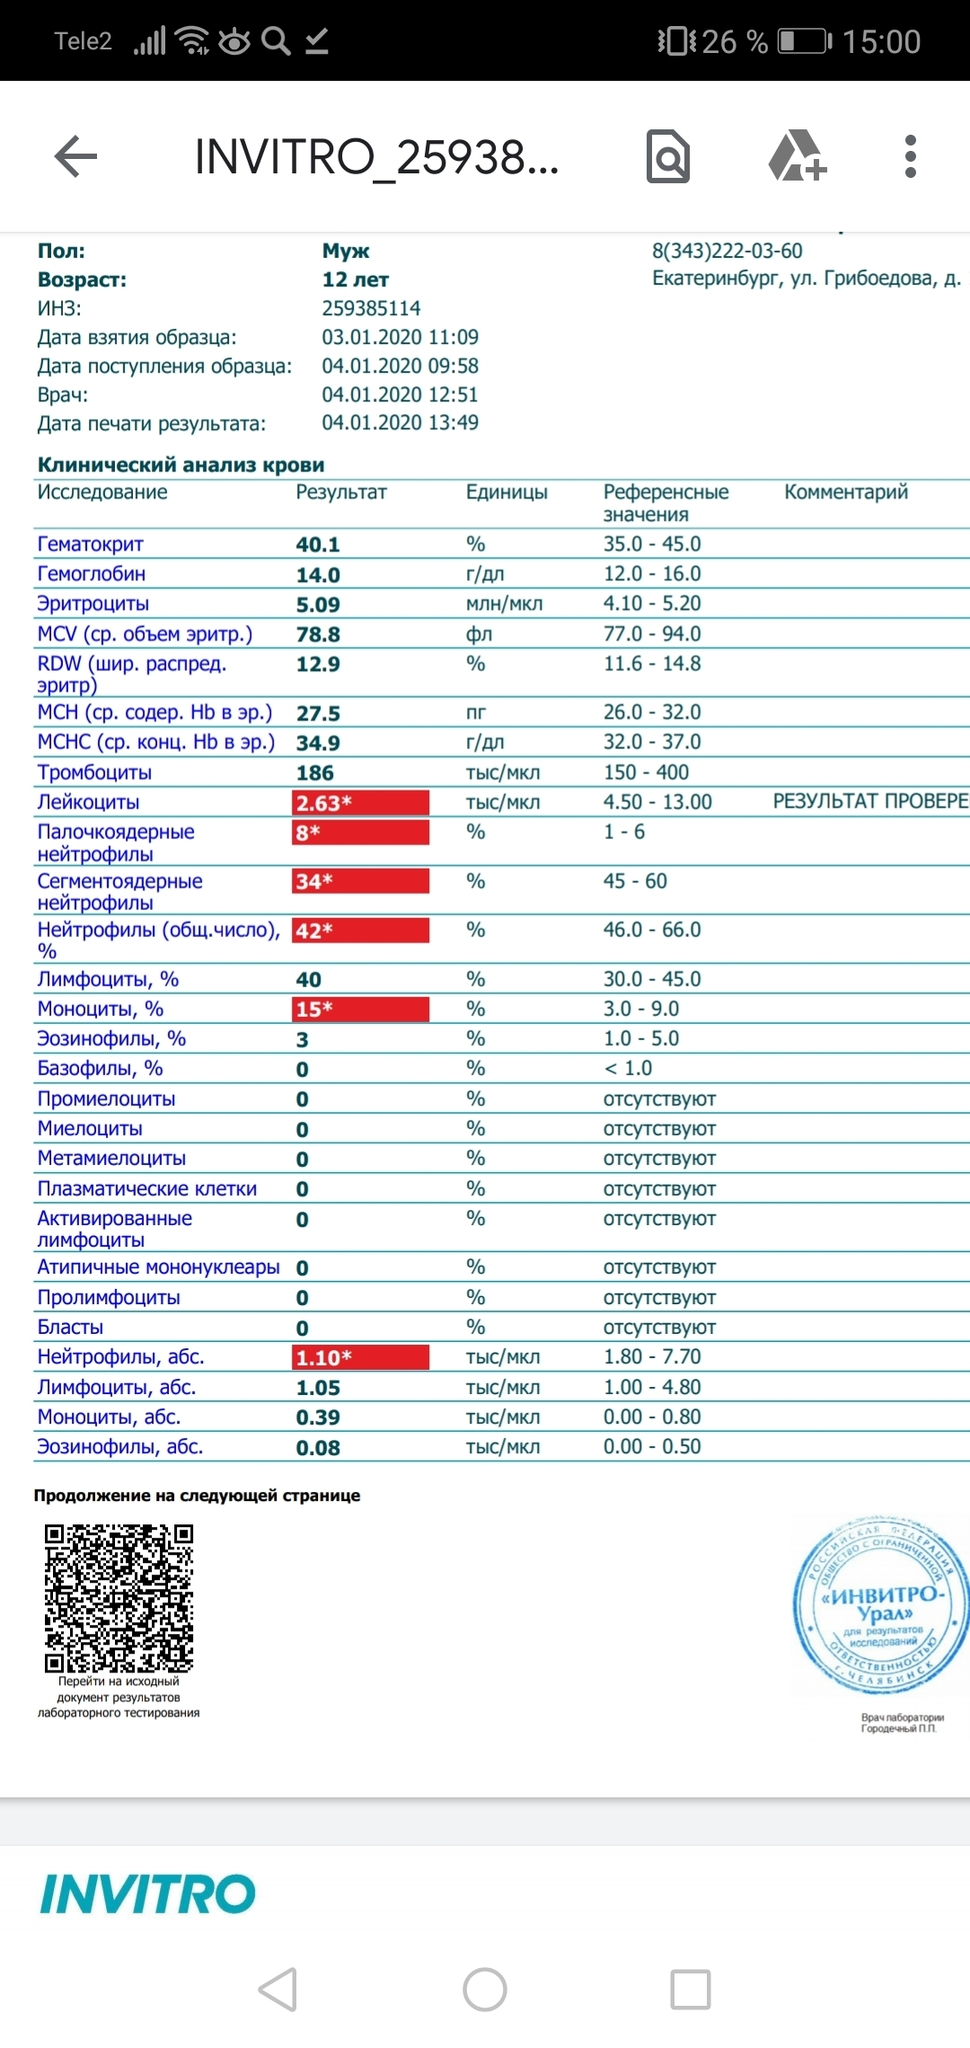column: (37, 479, 279, 1462), (772, 479, 970, 1462), (602, 479, 730, 1462), (295, 479, 388, 1462), (463, 479, 548, 1462)
